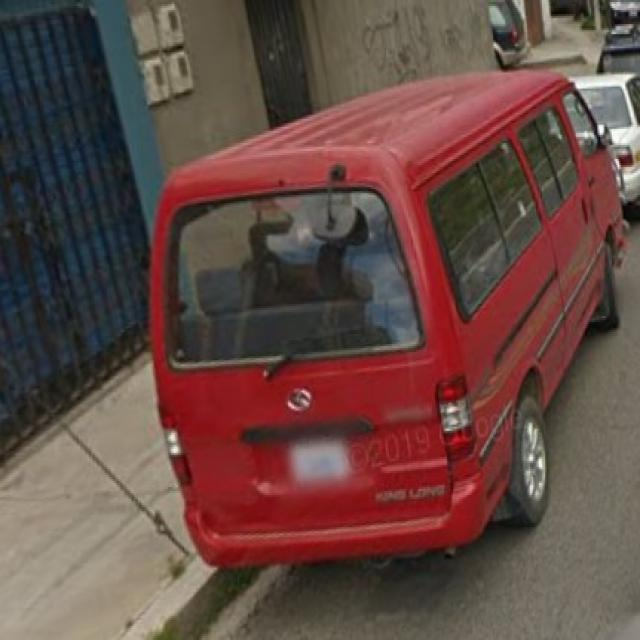cars: (146, 72, 634, 579)
